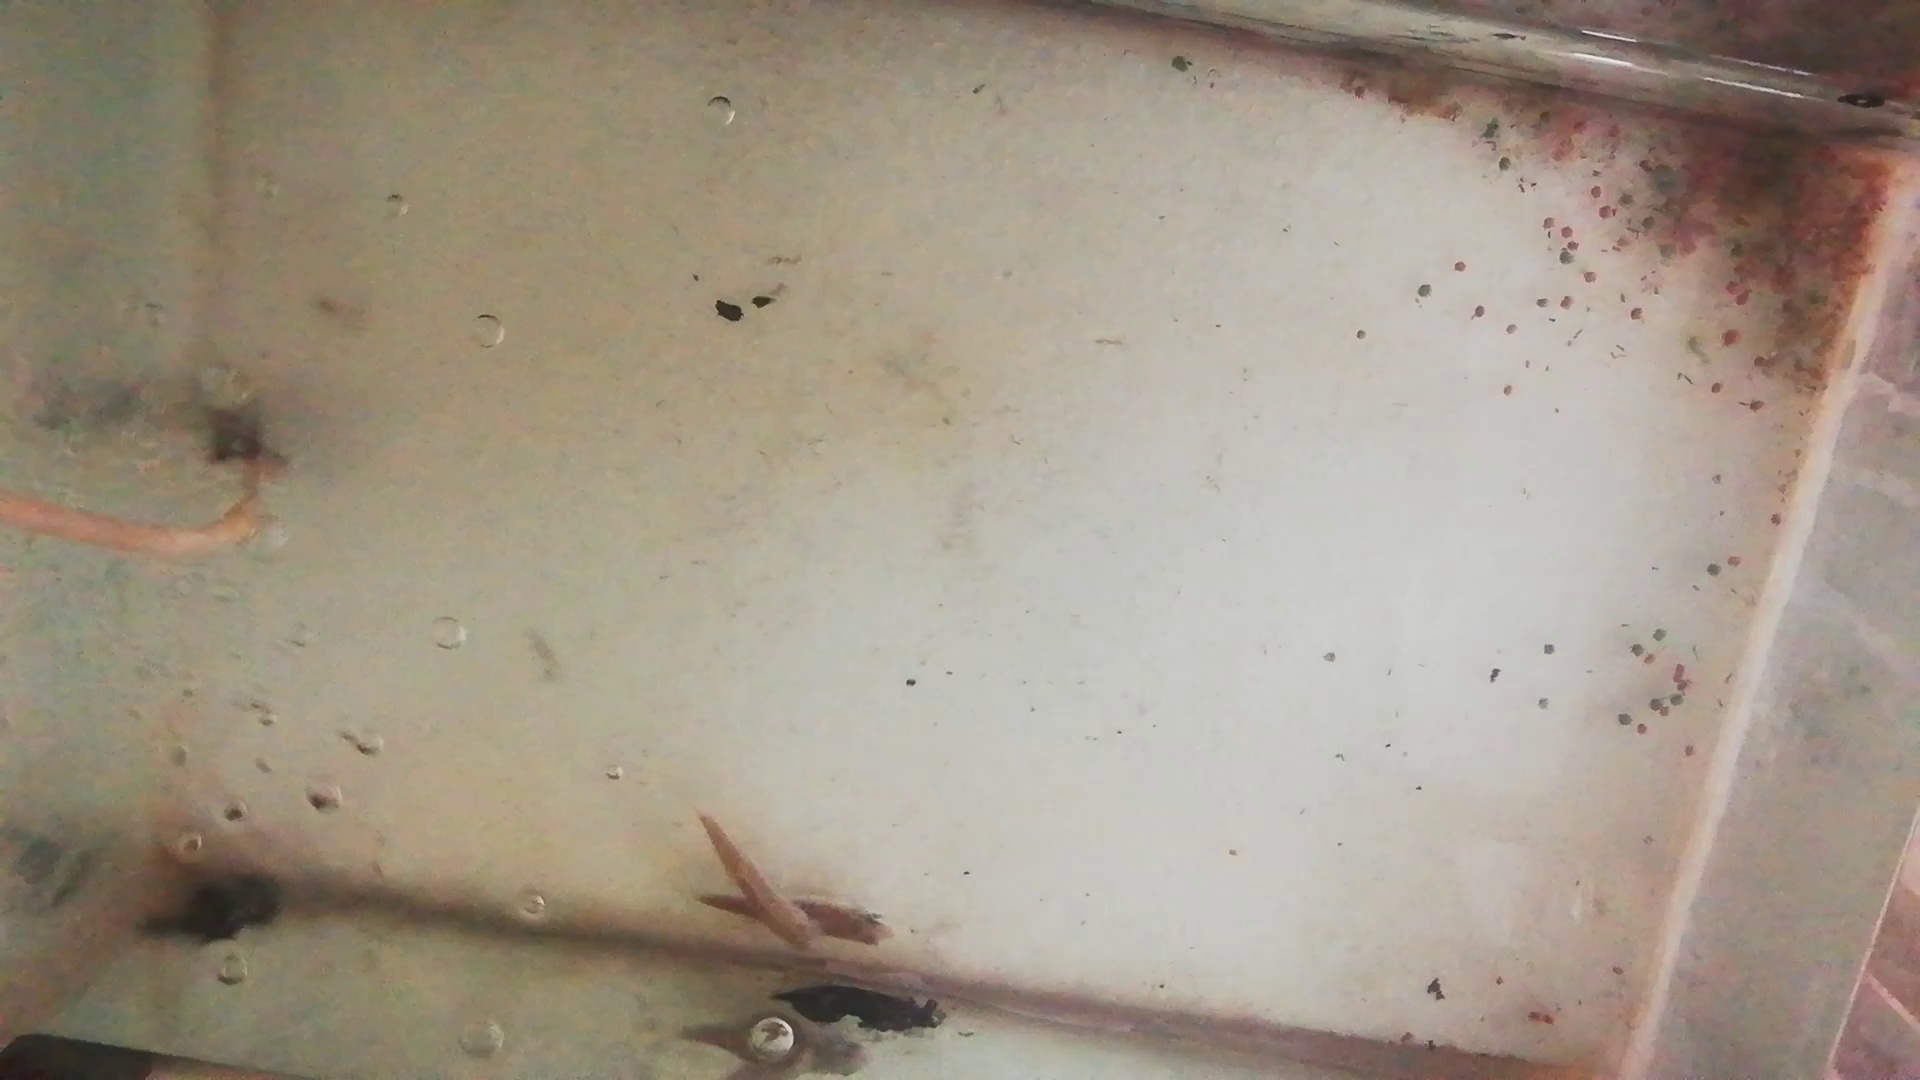fish: (694, 807, 814, 953), (694, 887, 895, 952)
